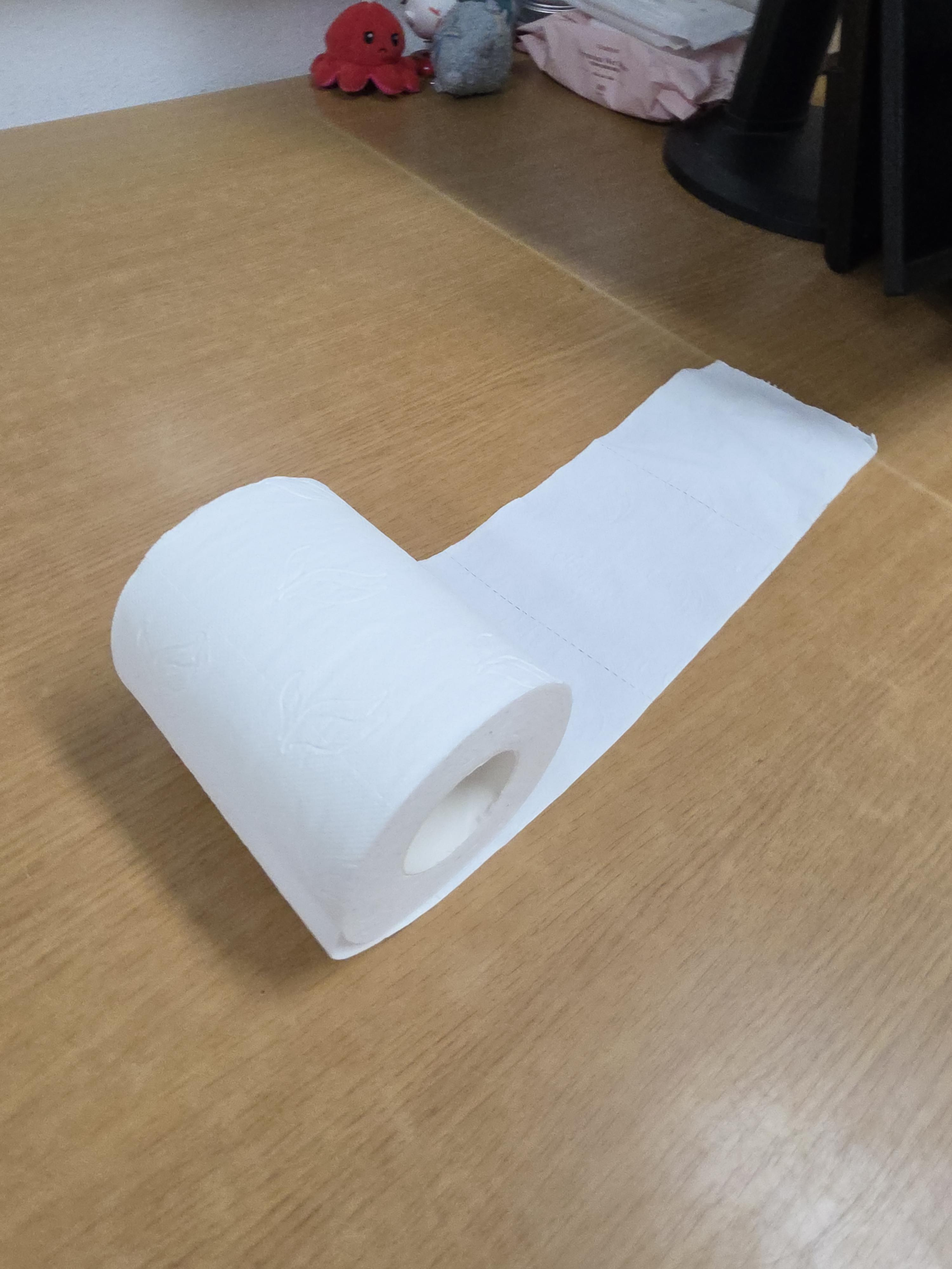tissue: (110, 360, 879, 960)
